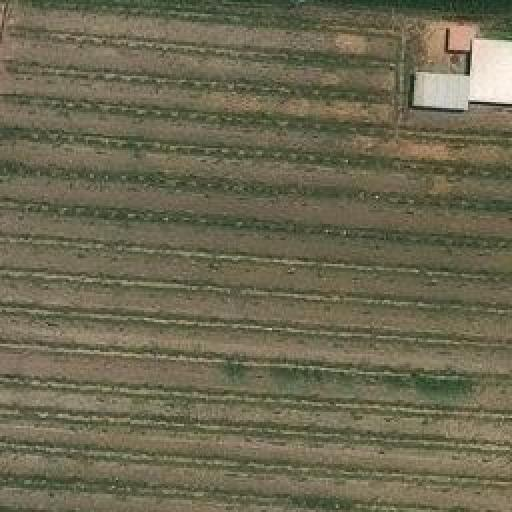manzanas: (411, 15, 510, 117)
